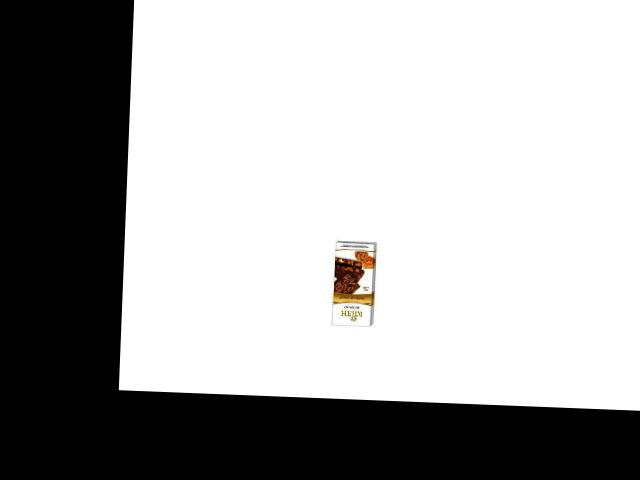chocolate: (330, 238, 378, 330)
